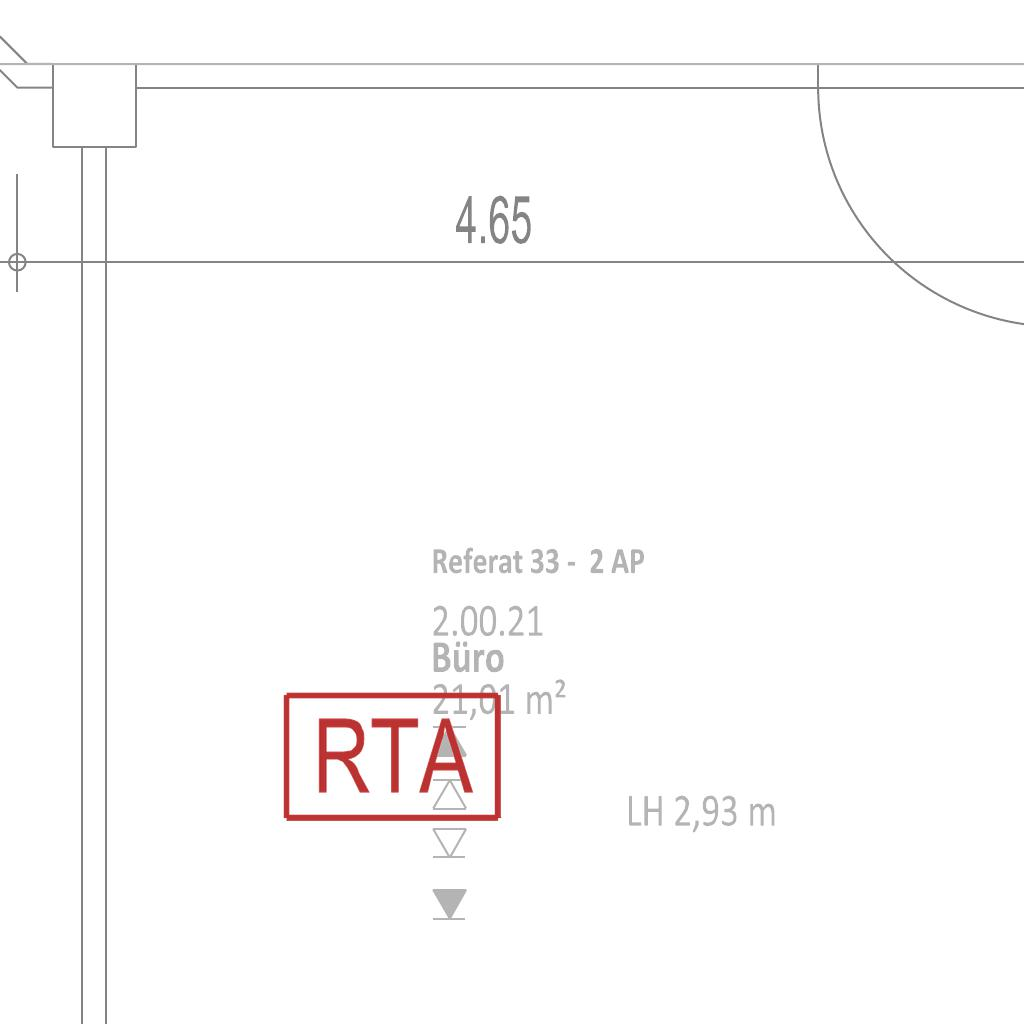Ruf-und_Abstelltaster: (276, 688, 504, 826)
